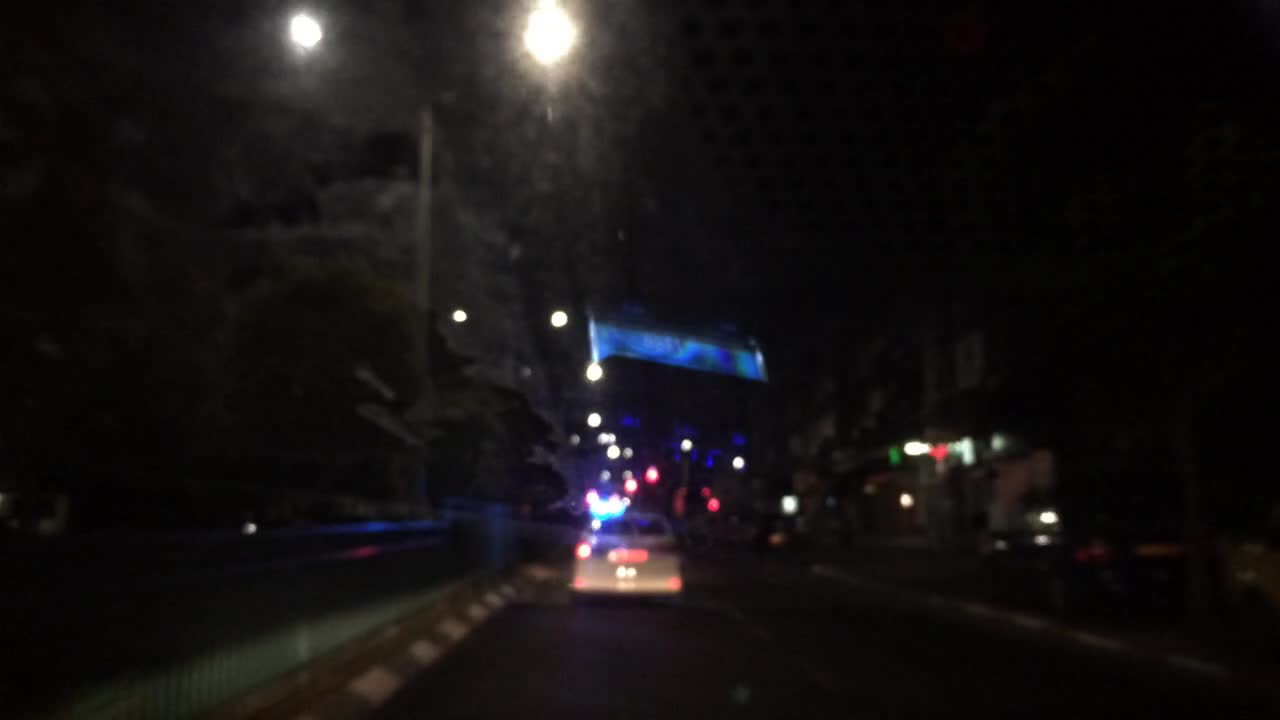car: (979, 505, 1201, 618), (570, 513, 686, 605)
traffic light: (708, 495, 720, 514), (626, 476, 636, 496), (649, 466, 658, 486)
